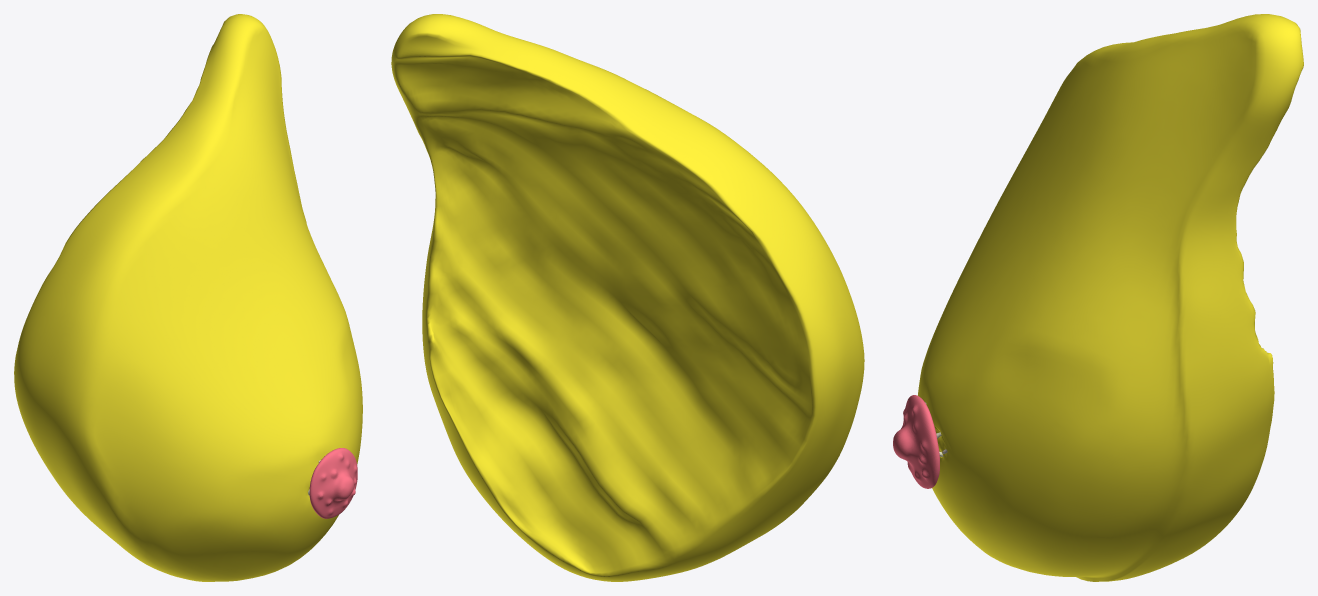
The model's file is density50.glb.
The picture shows the model from 3 angles, left to right: view 1: azimuth 30°, elevation 25°; view 2: azimuth 150°, elevation 25°; view 3: azimuth 270°, elevation 25°; orthographic projection. The views are drawn at different scales.
Parts seen in each view (by area): view 1: VH_F_fat_L, VH_F_areola_L; view 2: VH_F_fat_L; view 3: VH_F_fat_L, VH_F_areola_L.
Part boxes in pixels (x1=…): VH_F_fat_L: x1=14, y1=14, x2=362, y2=581; VH_F_areola_L: x1=308, y1=448, x2=357, y2=518; VH_F_fat_L: x1=391, y1=14, x2=864, y2=581; VH_F_fat_L: x1=918, y1=14, x2=1303, y2=581; VH_F_areola_L: x1=893, y1=395, x2=943, y2=488.
Bounding box in the file's own units: 0.1282 × 0.1819 × 0.1119.
2 materials, 2 textured.
